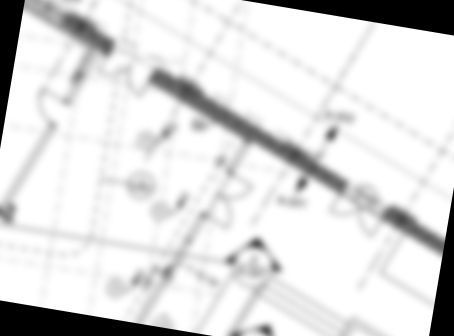door: (32, 85, 75, 128)
double door: (325, 175, 391, 241), (93, 40, 160, 101), (201, 169, 257, 233)
wall: (133, 62, 364, 210), (375, 202, 450, 275), (58, 8, 122, 61)
